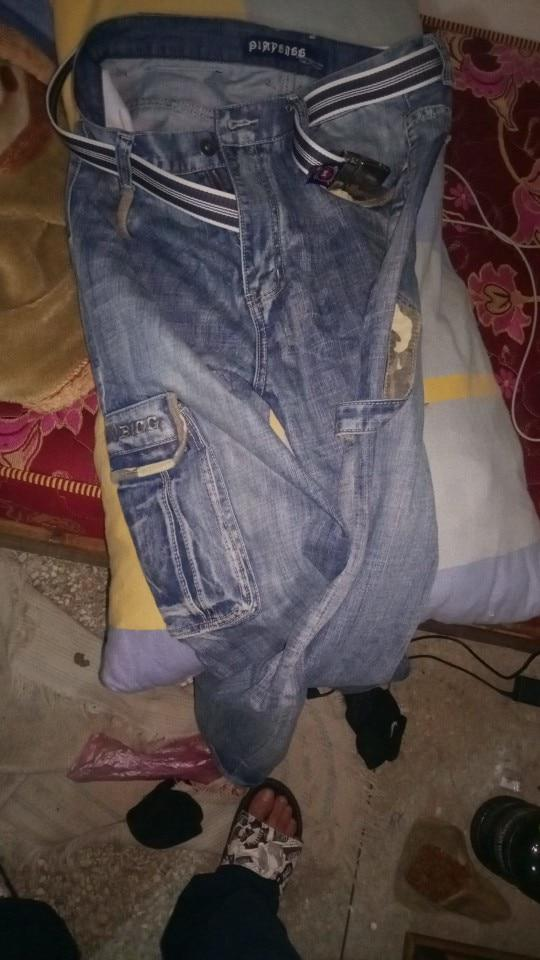jeans: (52, 16, 459, 685)
